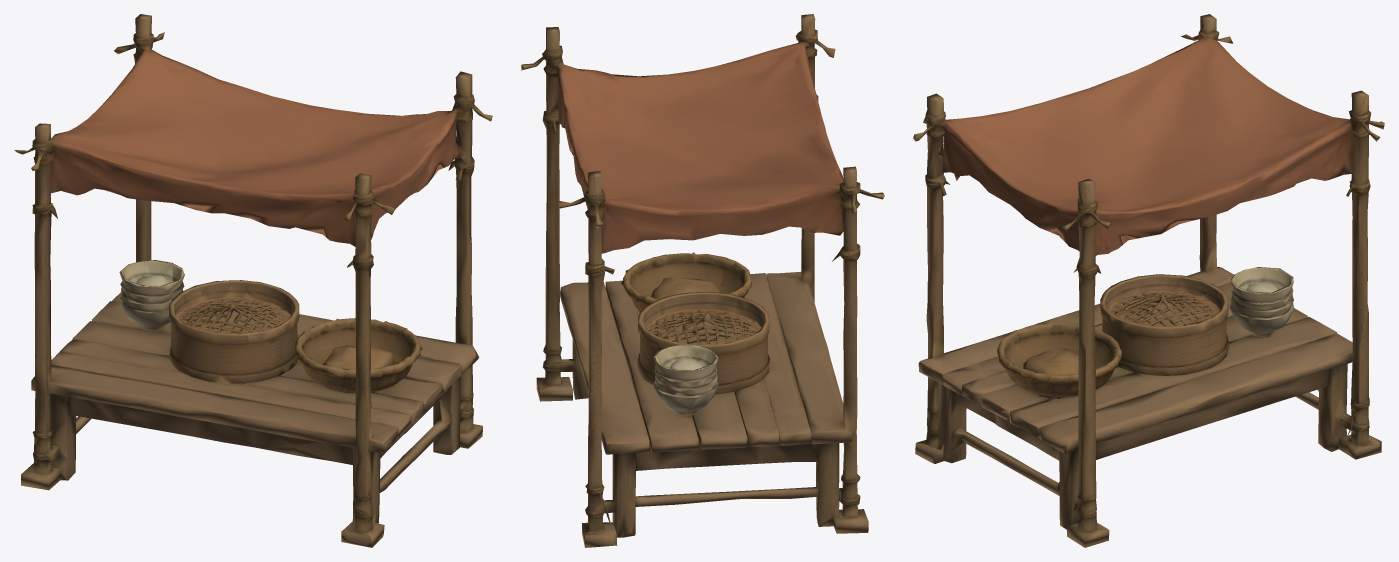
File: stall.glb
3 renders of one model, left to right at view 1: azimuth 30°, elevation 25°; view 2: azimuth 150°, elevation 25°; view 3: azimuth 270°, elevation 25°, orthographic.
Visible parts, largest first — view 1: tripo_node_646018b4-b5f7-405f-9560-4924ad817867; view 2: tripo_node_646018b4-b5f7-405f-9560-4924ad817867; view 3: tripo_node_646018b4-b5f7-405f-9560-4924ad817867.
Part boxes in pixels (x1,y1,x2,y2): tripo_node_646018b4-b5f7-405f-9560-4924ad817867: (14, 14, 492, 547); tripo_node_646018b4-b5f7-405f-9560-4924ad817867: (521, 14, 884, 547); tripo_node_646018b4-b5f7-405f-9560-4924ad817867: (913, 14, 1384, 547).
Bounding box in the file's own units: 1.14 × 0.9881 × 1.17.
Materials: 1 (1 with a texture image).
